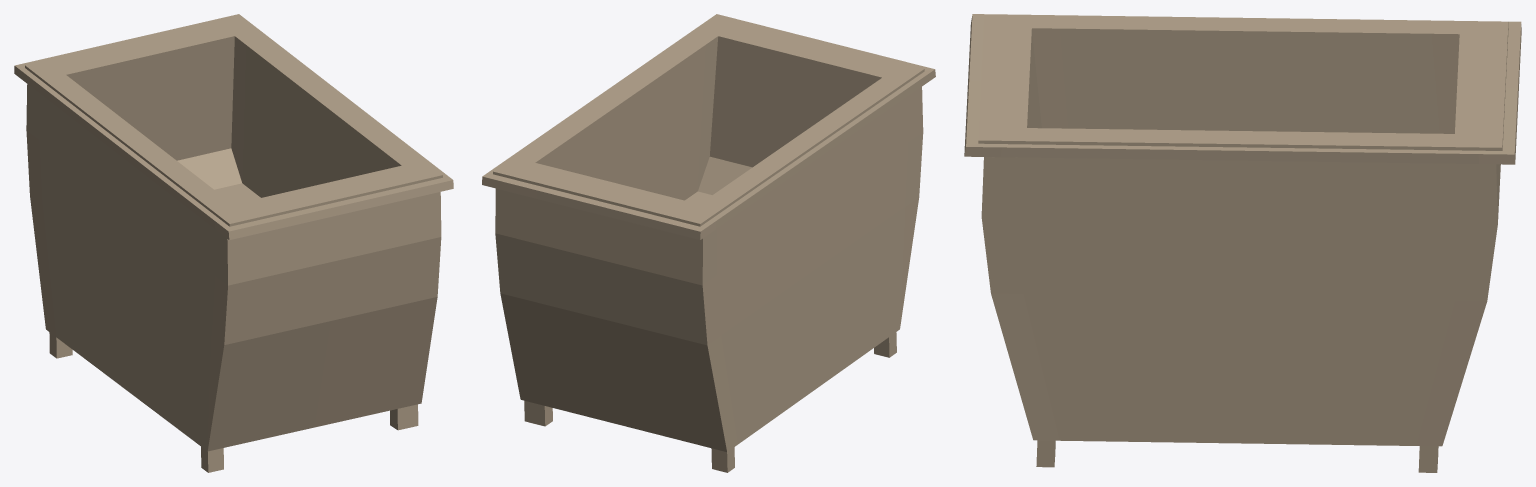
The model's file is Trashcan.fbx.
The picture shows the model from 3 angles, left to right: view 1: azimuth 30°, elevation 25°; view 2: azimuth 150°, elevation 25°; view 3: azimuth 270°, elevation 25°; orthographic projection. The views are drawn at different scales.
Visible parts, largest first — view 1: Cube; view 2: Cube; view 3: Cube.
Boxes of the visible parts, x1,y1,x2,y2 form: Cube: [14, 14, 453, 472]; Cube: [482, 14, 935, 472]; Cube: [964, 14, 1521, 472].
Bounding box in the file's own units: 706 × 785 × 1201.
